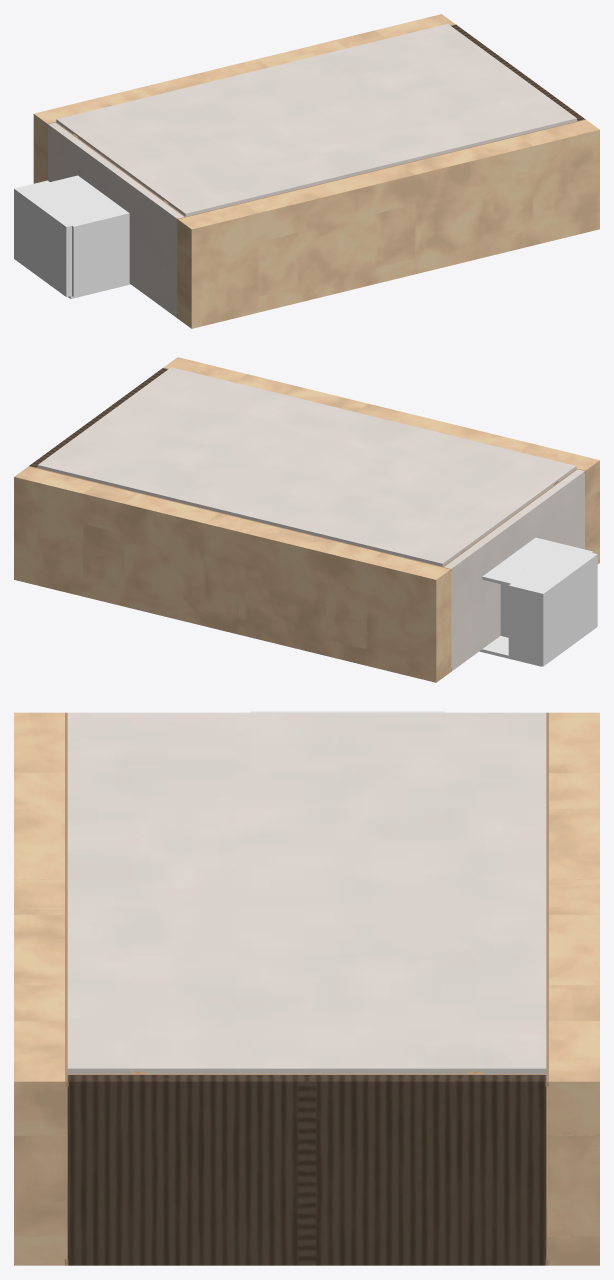
File: room.glb
3 views of the same model, one above another, from view 1: azimuth 30°, elevation 25°; view 2: azimuth 150°, elevation 25°; view 3: azimuth 270°, elevation 25° (orthographic). The views are drawn at different scales.
Visible parts, largest first — view 1: ceiling, wall.south, wall.west, wall.north, hall.wall.south, hall.wall.west, hall.ceiling, wall.east, crown.south; view 2: ceiling, wall.north, wall.west, wall.south, hall.wall.west, hall.branch.cap, hall.ceiling, wall.east, hall.wall.north, crown.north, hall.floor; view 3: ceiling, wall.east, wall.north, wall.south, wall.west, crown.north, crown.south.
Boxes of the visible parts, x1,y1,x2,y2 form: ceiling: (56, 24, 576, 216); wall.south: (177, 120, 599, 328); wall.west: (48, 122, 183, 317); wall.north: (33, 14, 455, 183); hall.wall.south: (70, 211, 129, 296); hall.wall.west: (17, 189, 71, 297); hall.ceiling: (23, 175, 125, 228); wall.east: (451, 24, 584, 120); crown.south: (177, 119, 585, 221); ceiling: (37, 367, 576, 566); wall.north: (14, 466, 451, 682); wall.west: (444, 469, 584, 671); wall.south: (164, 357, 599, 564); hall.wall.west: (541, 553, 597, 663); hall.branch.cap: (508, 583, 546, 666); hall.ceiling: (482, 540, 589, 589); wall.east: (29, 368, 167, 467); hall.wall.north: (500, 561, 538, 637); crown.north: (28, 466, 451, 571); hall.floor: (479, 636, 541, 666); ceiling: (67, 714, 546, 1073); wall.east: (67, 1075, 546, 1265); wall.north: (546, 712, 599, 1265); wall.south: (14, 712, 67, 1265); wall.west: (67, 712, 546, 714); crown.north: (545, 712, 548, 1086); crown.south: (65, 712, 68, 1086).
Size of the model in its own units: 16.8 by 3.6 by 9.8.
33 materials, 9 textured.
